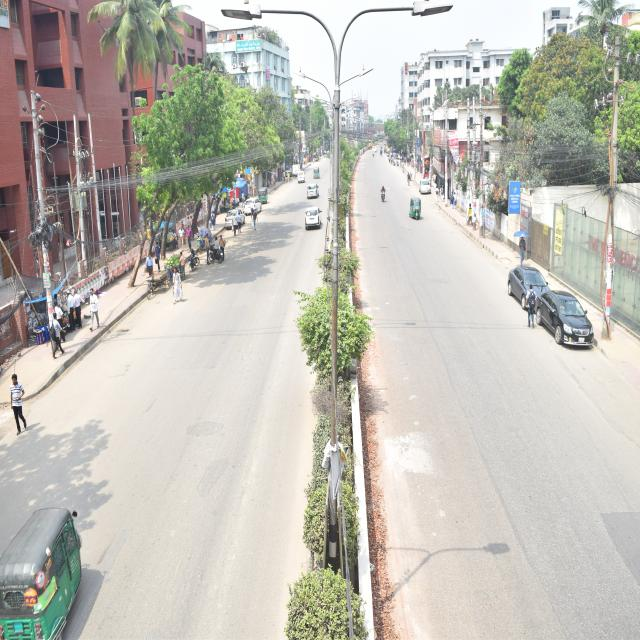car: (532, 254, 611, 375), (484, 225, 564, 326), (210, 195, 253, 252), (297, 198, 325, 254), (303, 176, 335, 217), (414, 169, 442, 206), (239, 182, 261, 228), (295, 168, 313, 190), (369, 136, 381, 152)
motorbike: (197, 223, 234, 282), (368, 165, 404, 225), (368, 142, 382, 161)
pickup-van: (293, 154, 306, 181)
